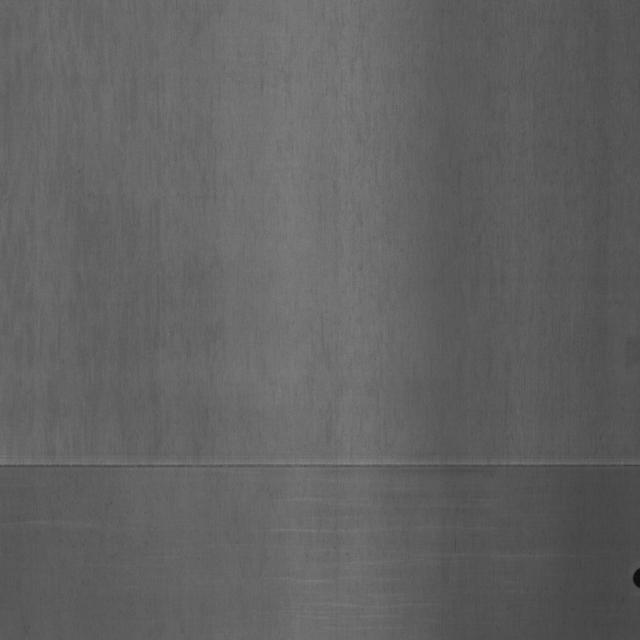crease: (2, 454, 640, 488)
crescent_gap: (630, 562, 640, 589)
